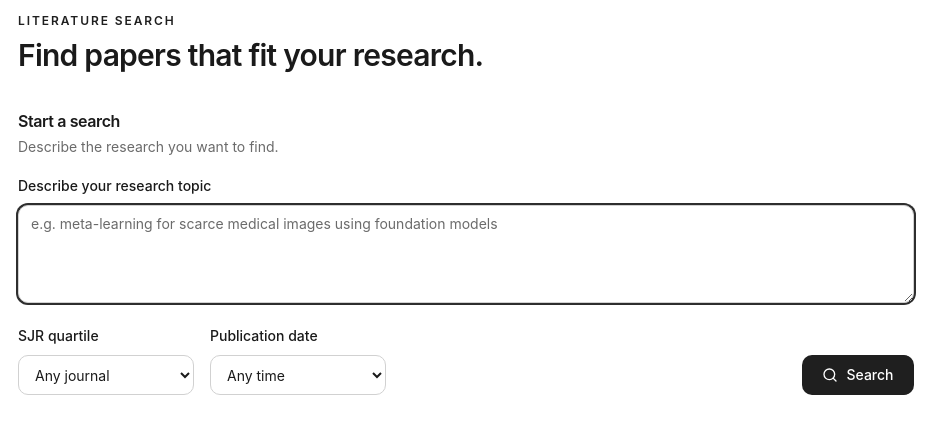
Test case: App › requires at least seven words before submitting
The image size is (933, 436).
Type "one two three four five six" into the text box labelled "Describe your research topic" at [466, 254], box [18,205,914,303]
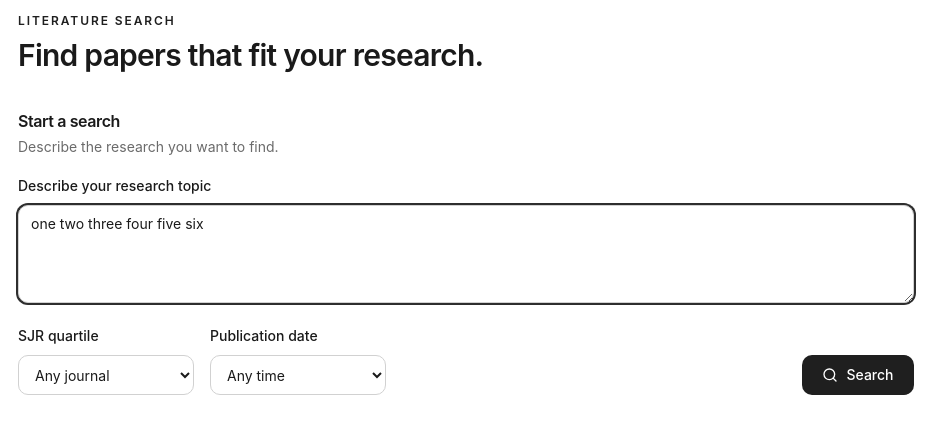
Click the button "Search" at [858, 375], box [802,355,914,395]
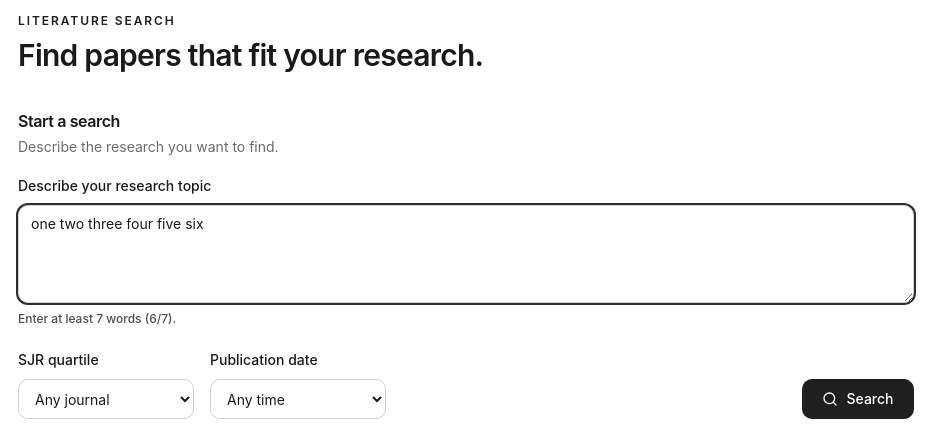
Check: the text "Enter at least 7 words (6/7)." is shown, box [18,311,176,326]
